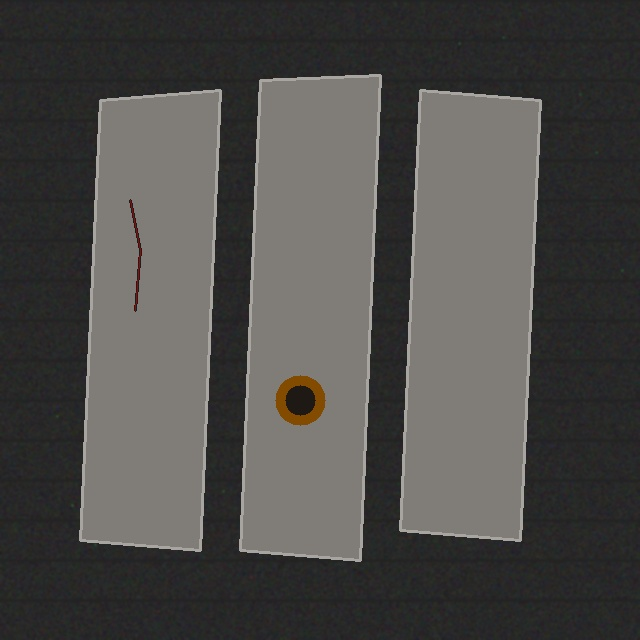burn: (275, 375, 325, 425)
crack: (127, 200, 143, 310)
turbine_blade: (240, 75, 380, 560), (80, 90, 220, 550), (400, 90, 540, 540)
